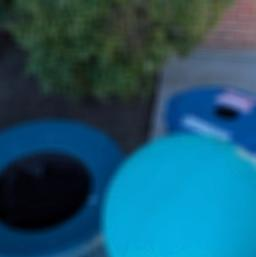algae: (99, 132, 256, 257), (0, 112, 132, 257)
